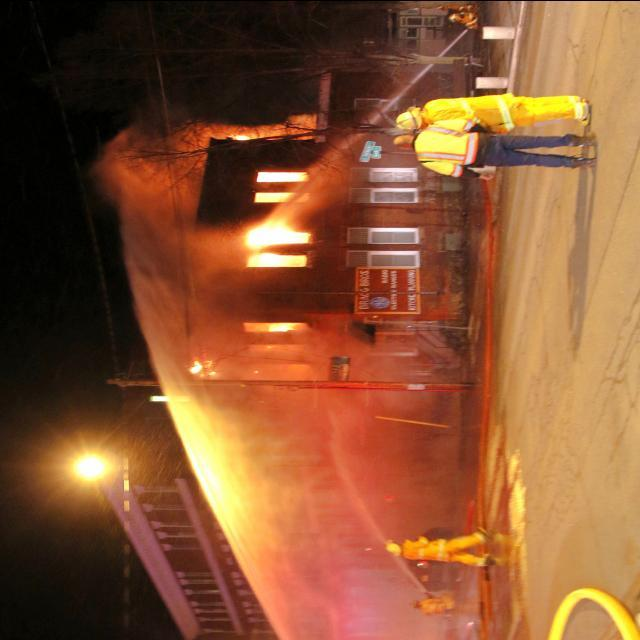Fire: (196, 119, 322, 330)
